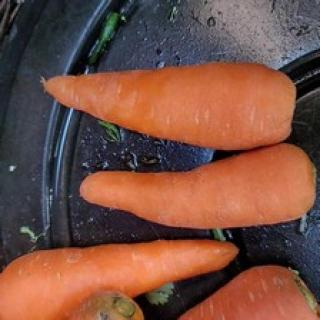carrot: (41, 62, 297, 146), (78, 144, 316, 228), (1, 240, 237, 320)
